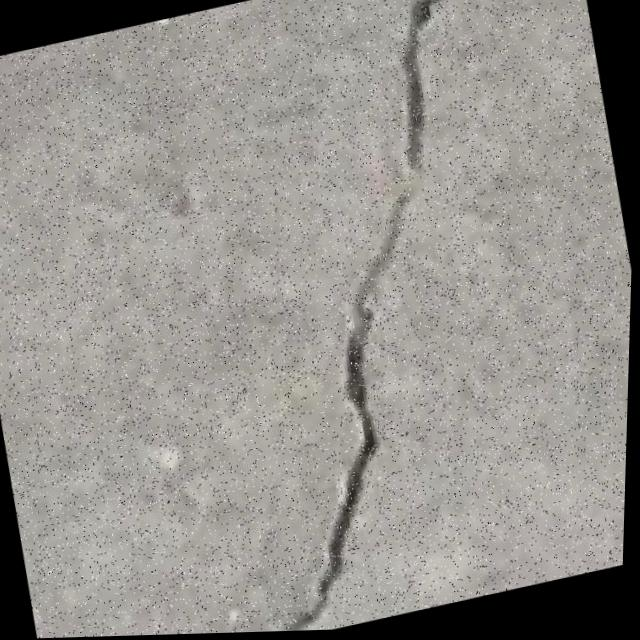Crack: (162, 0, 580, 636)
